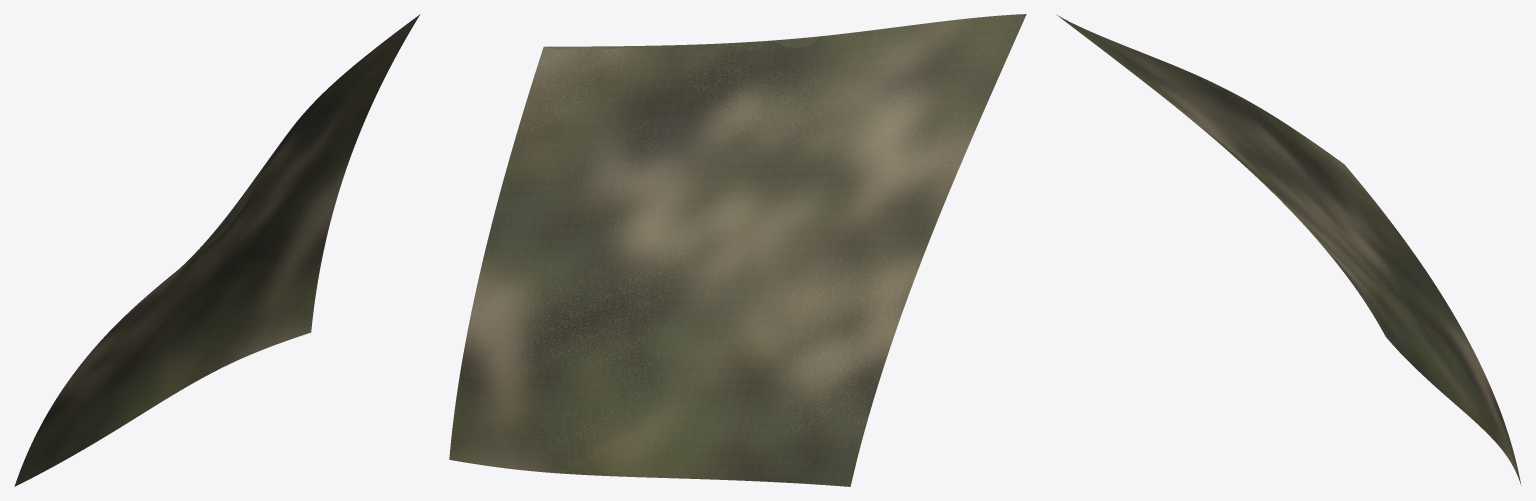
Rendered from ground_core_03_07.obj.
3 views of the same model, side by side, from view 1: azimuth 30°, elevation 25°; view 2: azimuth 150°, elevation 25°; view 3: azimuth 270°, elevation 25° (orthographic). The views are drawn at different scales.
Parts seen in each view (by area): view 1: ground_core_03_07; view 2: ground_core_03_07; view 3: ground_core_03_07.
Part boxes in pixels (left/top/right/bottom): ground_core_03_07: left=14, top=14, right=420, bottom=486; ground_core_03_07: left=449, top=14, right=1026, bottom=486; ground_core_03_07: left=1056, top=14, right=1521, bottom=485.
Size of the model in its own units: 50 by 50 by 65.5.
Materials: 1 (1 with a texture image).
